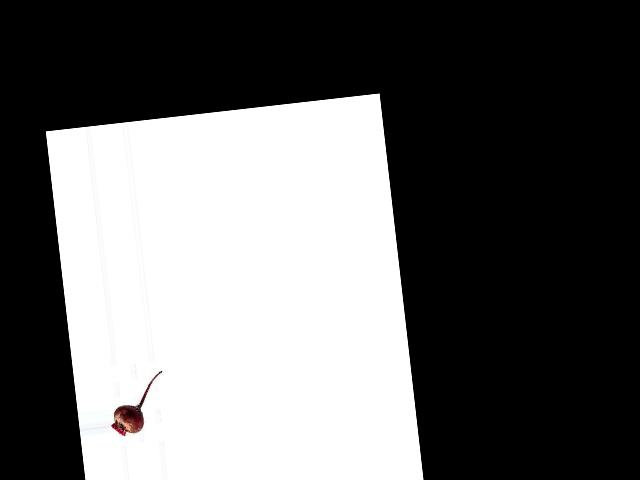beet: (105, 370, 168, 436)
